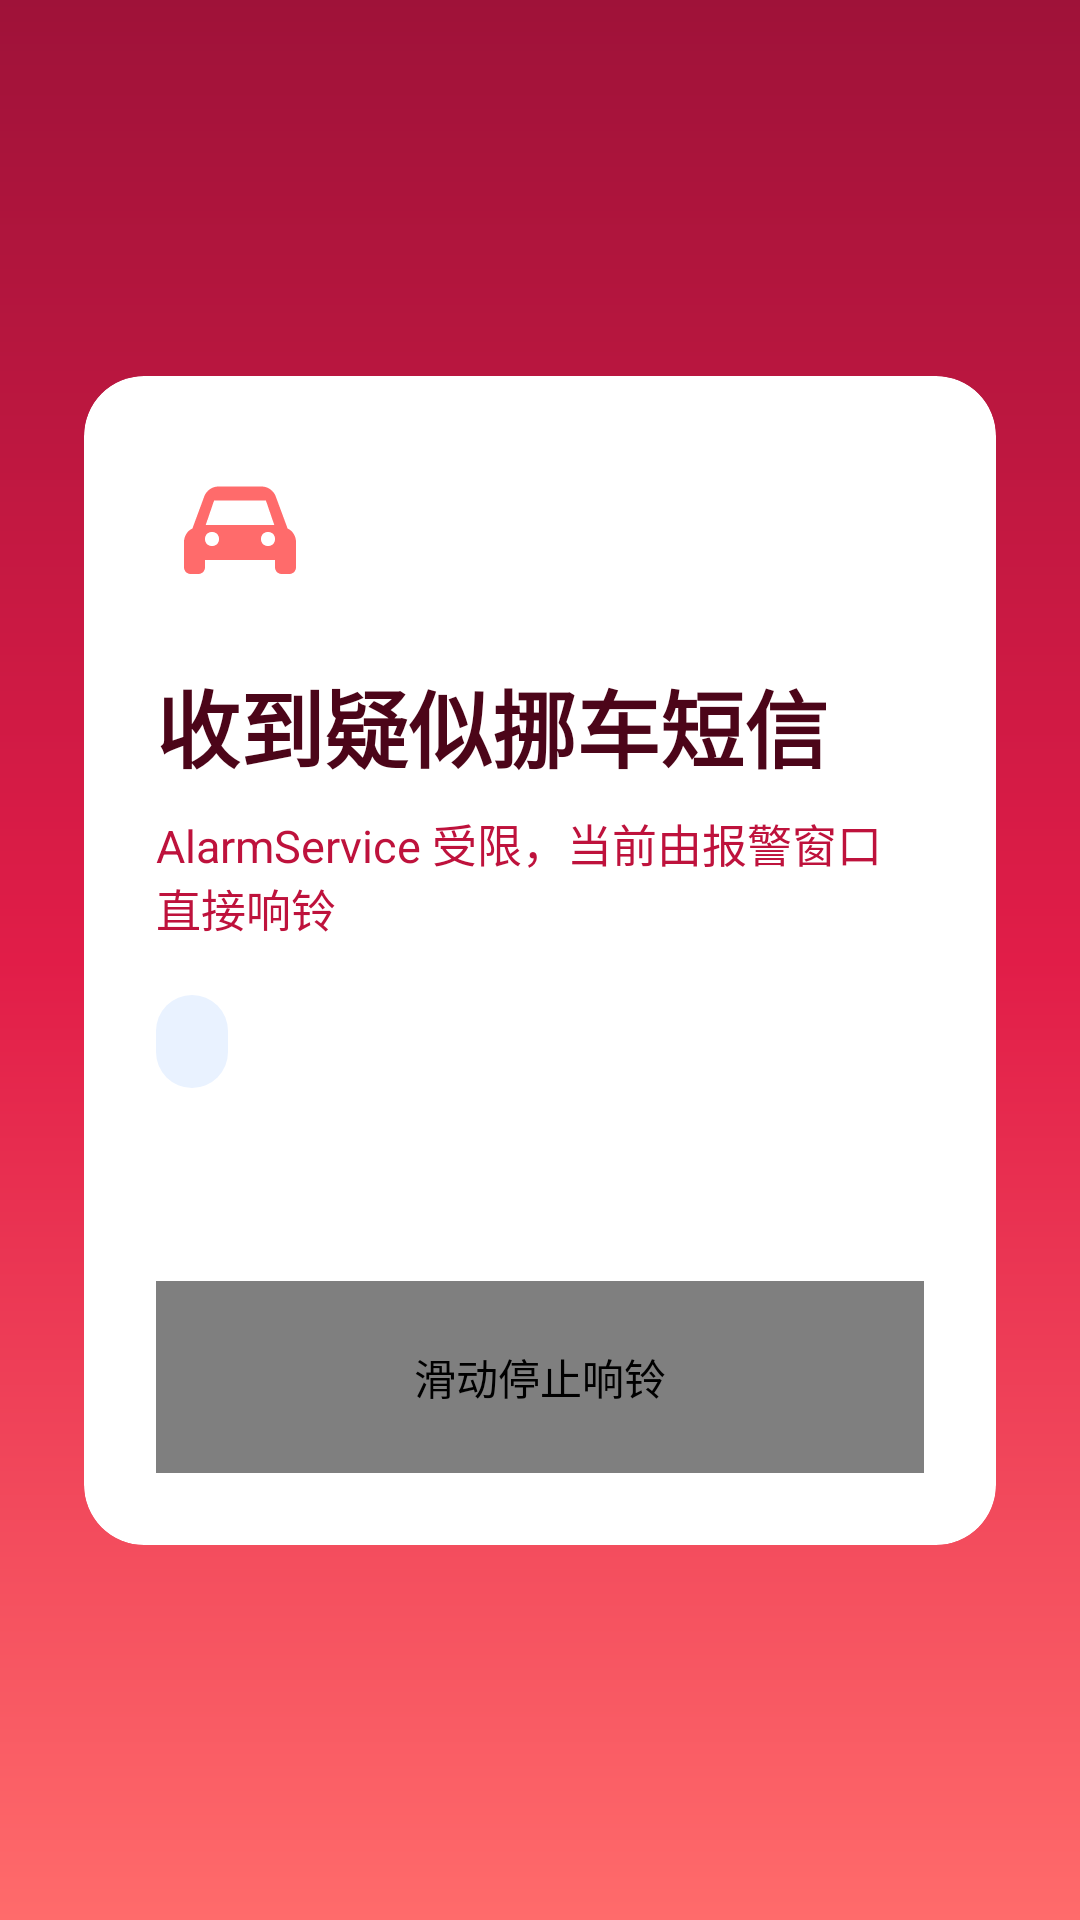

Icon bounding boxes for this 1080px×1920px phone screenshot, format bbox=(x1, y1, x2, y2):
car: bbox=(184, 486, 296, 574)
